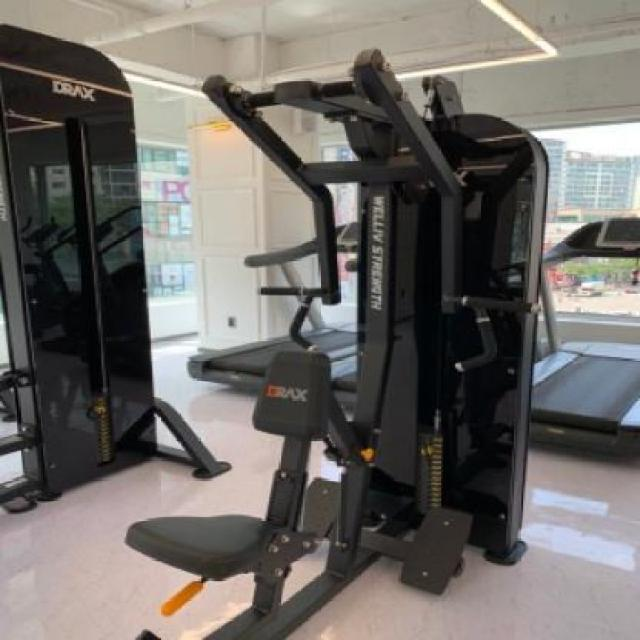Chest Press machine: (115, 51, 594, 640)
